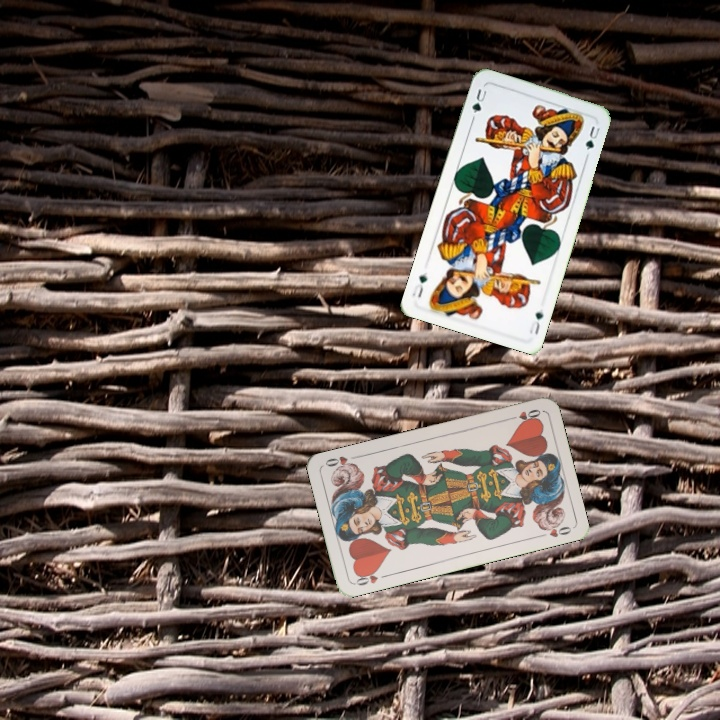GU: (468, 85, 489, 116), (525, 307, 546, 338)
HO: (351, 566, 391, 588), (504, 405, 543, 425)
